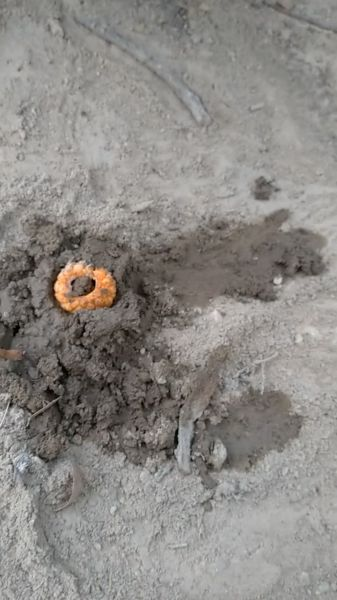eggs: (50, 256, 123, 320)
